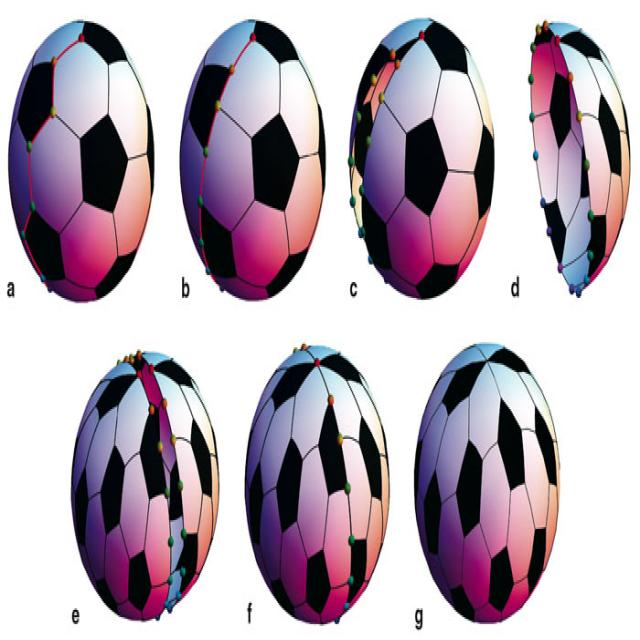soccer ball: (8, 21, 154, 302)
